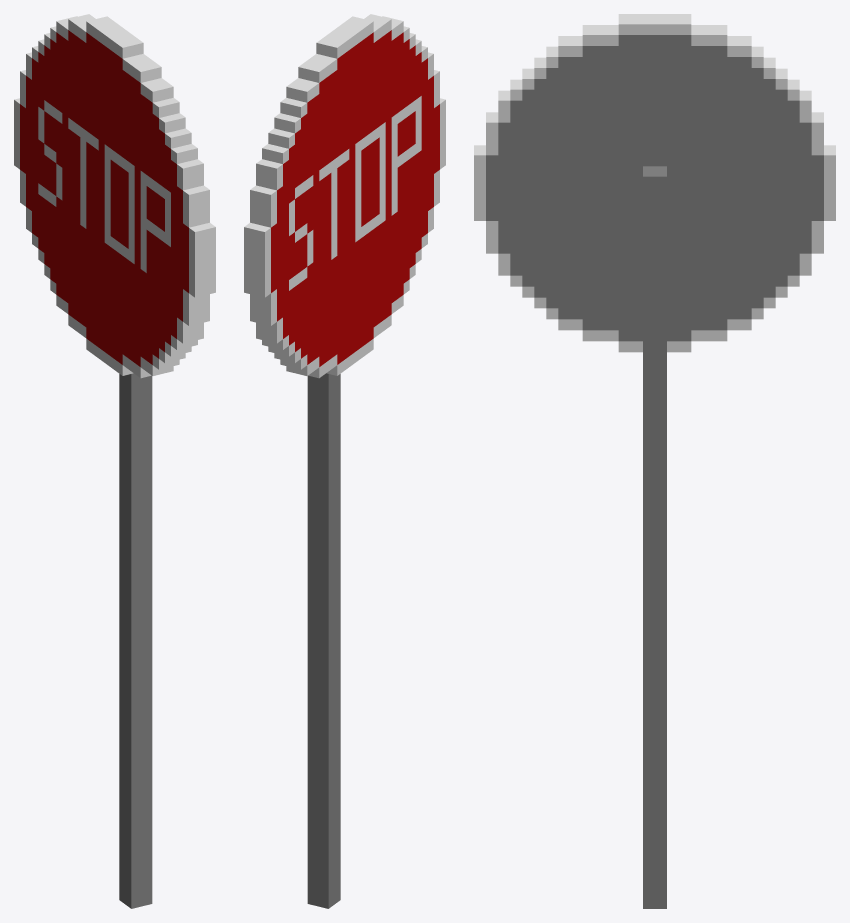
The model's file is StopSign.obj.
3 renders of one model, left to right at view 1: azimuth 30°, elevation 25°; view 2: azimuth 150°, elevation 25°; view 3: azimuth 270°, elevation 25°, orthographic.
Bounding box in the file's own units: 0.4 × 8 × 3.
Materials: 1 (1 with a texture image).
